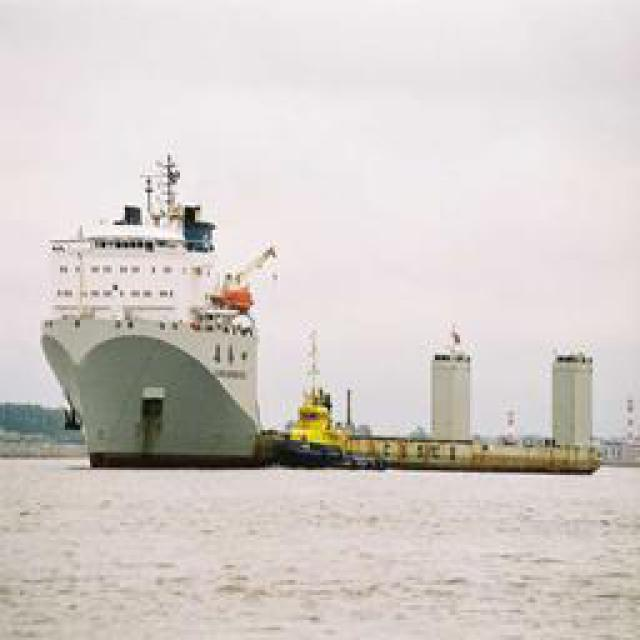Ship: (40, 142, 288, 450)
